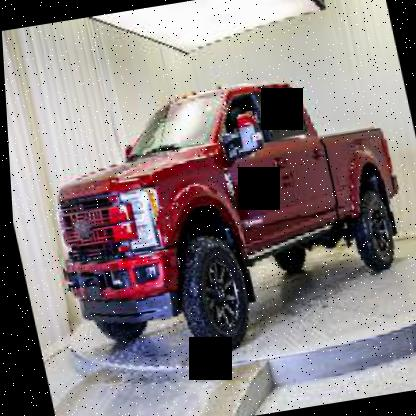not_emergency: (8, 33, 415, 381)
